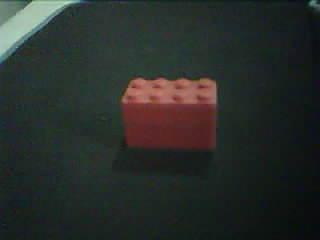lego: (120, 76, 218, 152)
